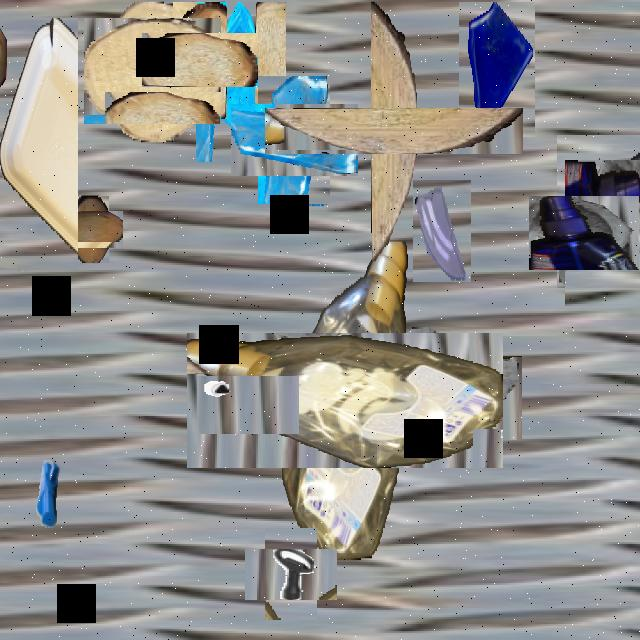glass: (196, 2, 286, 162), (388, 340, 506, 456), (557, 135, 640, 288), (459, 2, 535, 137), (244, 90, 344, 190), (413, 180, 471, 282)
metal: (208, 365, 288, 446), (18, 438, 76, 540), (255, 538, 327, 610)
plastic: (232, 287, 458, 513), (0, 18, 78, 270), (547, 177, 640, 288)
wood: (318, 55, 470, 208), (91, 10, 213, 132), (157, 18, 243, 103), (64, 203, 116, 256)
